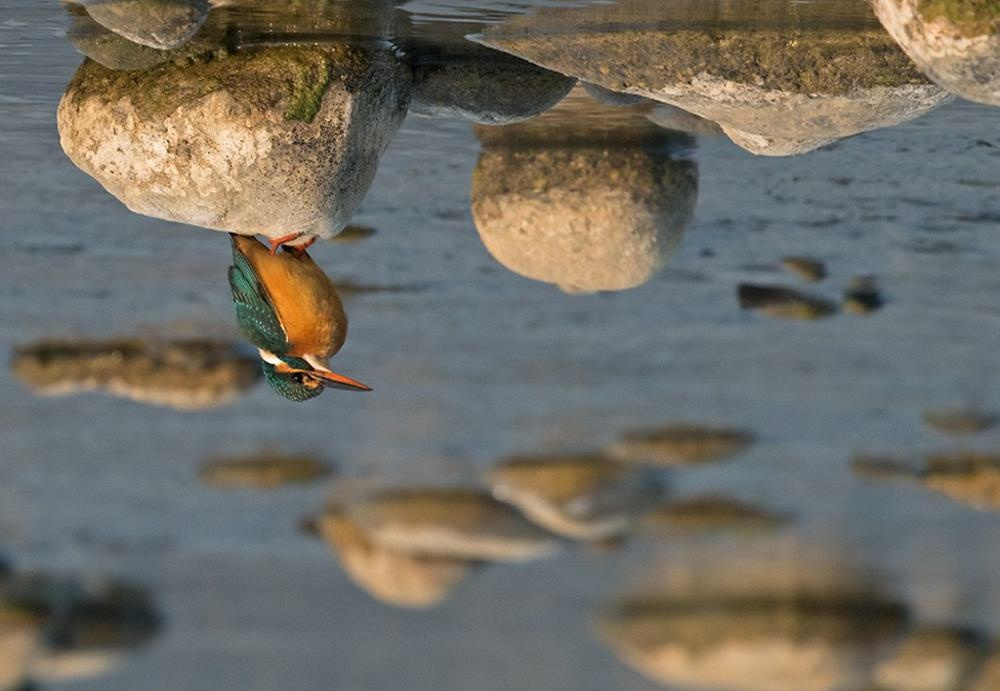kingfisher: (214, 218, 386, 411)
